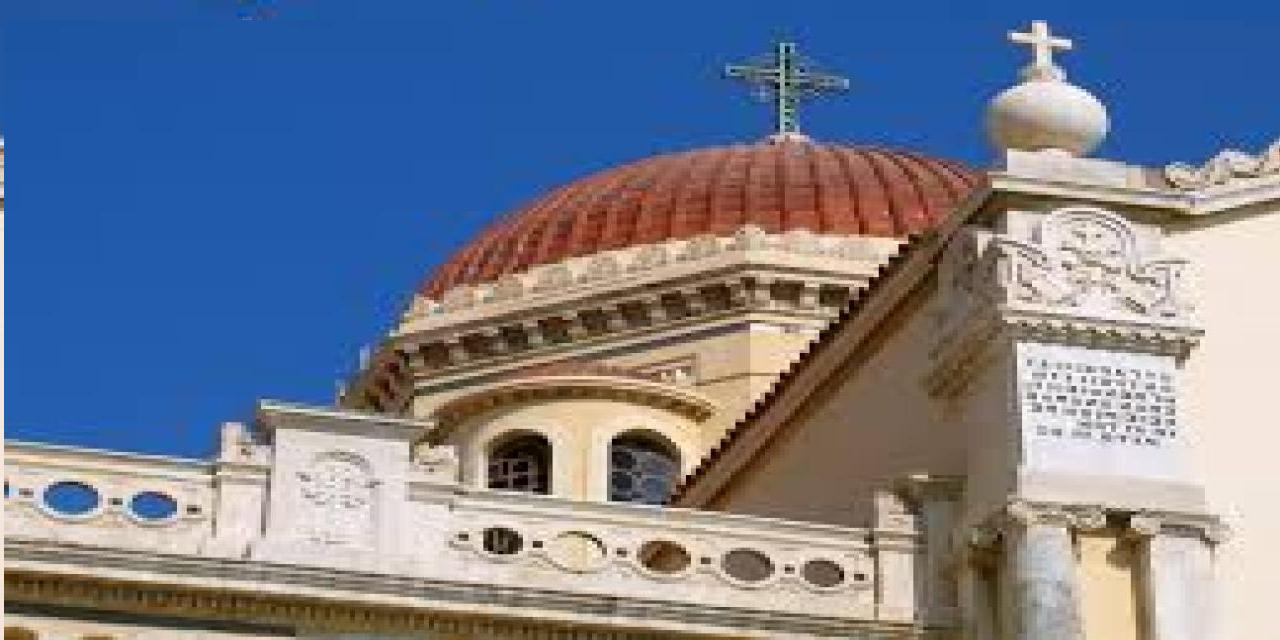Agios Minas: (5, 21, 1280, 640)
